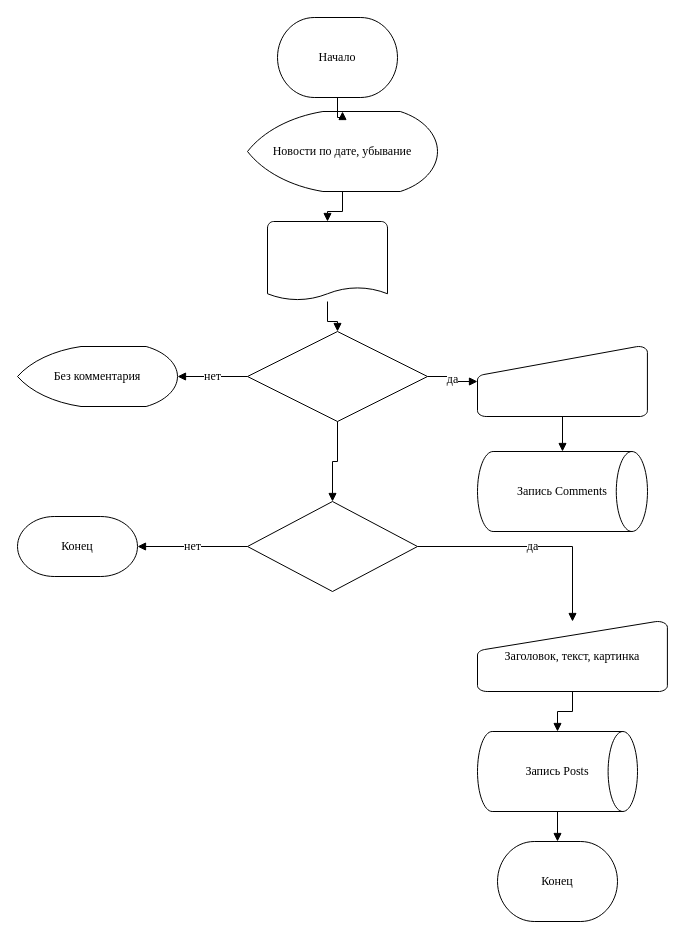
This 685x939 diagram has some shape labels left out. The centre of each missing label's shape, as x and y in pixels:
"Администратор?" belongs at (332,546).
"Посетитель вошёл?" belongs at (337,376).
"Текст комментария" belongs at (562,381).
"Текст статьи" belongs at (327,261).
